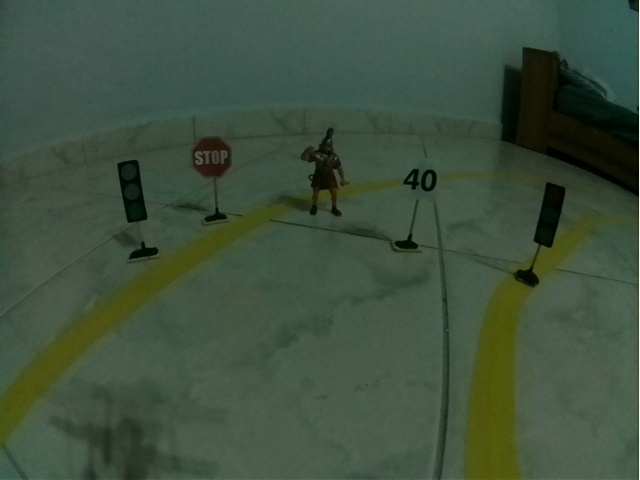Green Traffic Light: (116, 159, 148, 224)
Person: (300, 127, 350, 217)
Red Traffic Light: (533, 182, 565, 249)
Speed Limit 40: (401, 158, 441, 203)
Stop: (190, 136, 233, 179)
